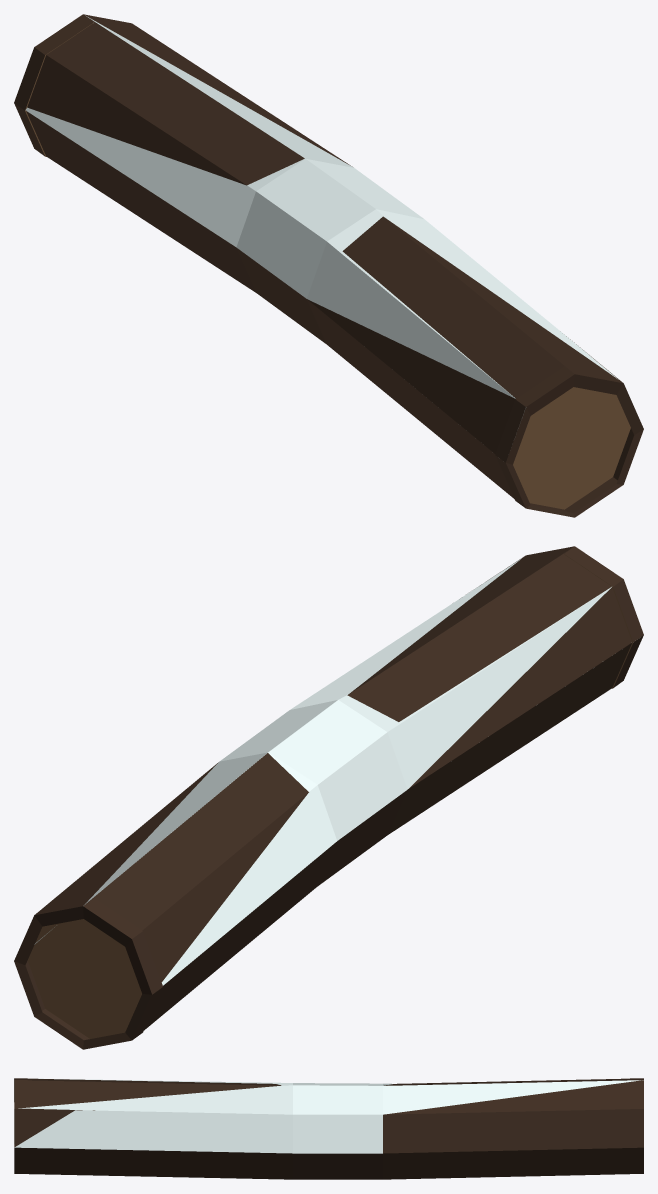
Rendered from Snow_Stump.fbx.
3 renders of one model, top to bottom at view 1: azimuth 30°, elevation 25°; view 2: azimuth 150°, elevation 25°; view 3: azimuth 270°, elevation 25°, orthographic. The views are drawn at different scales.
Parts seen in each view (by area): view 1: Snow; view 2: Snow; view 3: Snow.
Boxes of the visible parts, x1,y1,x2,y2 form: Snow: (14,14,643,517); Snow: (14,546,643,1049); Snow: (14,1078,643,1179).
Bounding box in the file's own units: 8.4 × 7.4 × 45.61.
